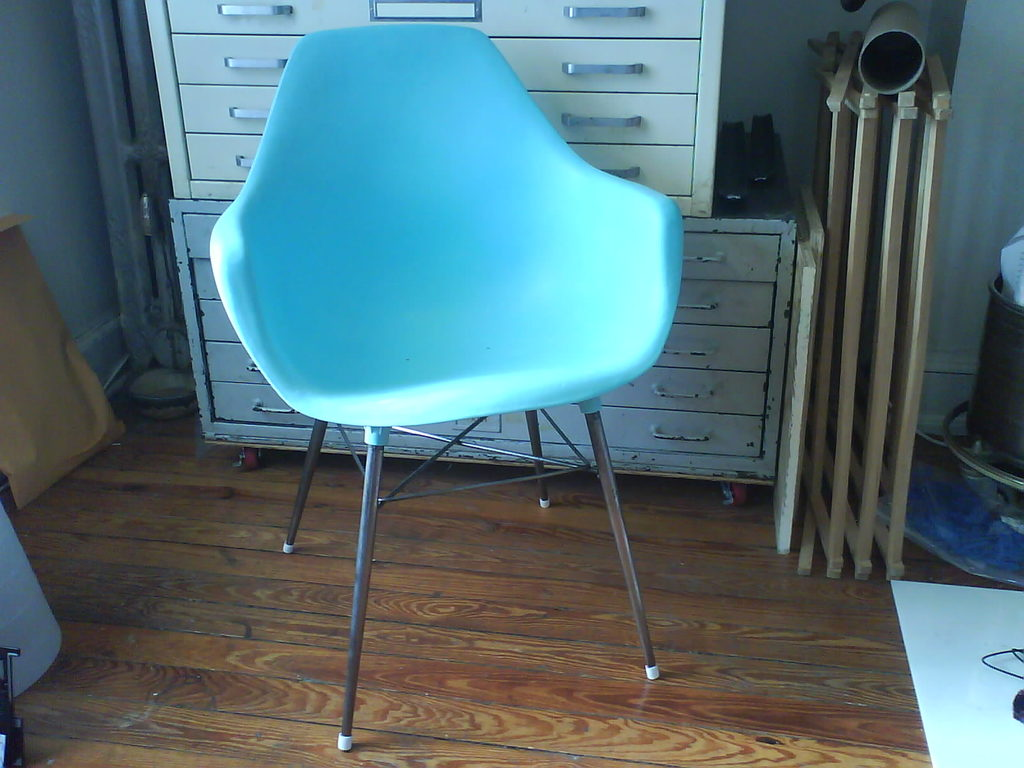cabinet door: (503, 39, 689, 93), (609, 406, 763, 460), (555, 106, 699, 156), (489, 1, 702, 33), (594, 140, 691, 190), (177, 31, 285, 75), (178, 2, 369, 26), (680, 281, 770, 327), (637, 374, 763, 406), (206, 379, 290, 423), (678, 237, 768, 275), (678, 330, 766, 368), (209, 345, 262, 380)
handle: (555, 53, 650, 77), (559, 5, 654, 27), (557, 109, 647, 132), (214, 51, 280, 79), (642, 420, 714, 444), (226, 1, 287, 26), (654, 382, 706, 404), (230, 97, 269, 126), (678, 295, 722, 317), (687, 247, 727, 271), (248, 394, 287, 418), (664, 346, 710, 362)
